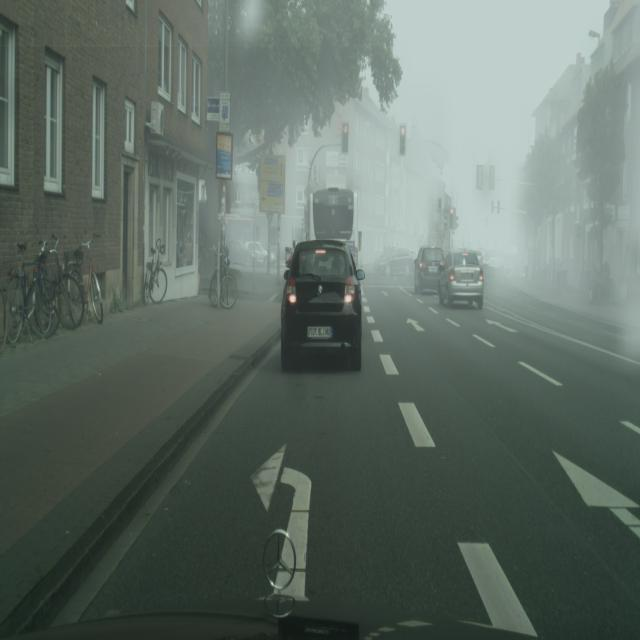bus: (280, 237, 363, 372), (438, 249, 484, 309), (414, 246, 445, 294), (373, 247, 414, 276), (243, 240, 273, 268)
car: (5, 239, 59, 348), (36, 233, 85, 331), (69, 234, 103, 326), (208, 248, 238, 309), (143, 238, 167, 306)
motorcycle: (304, 187, 357, 267)
